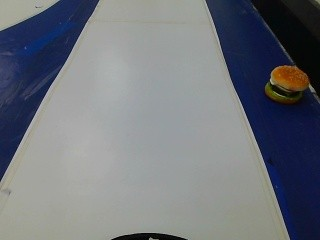burger: (261, 60, 311, 108)
